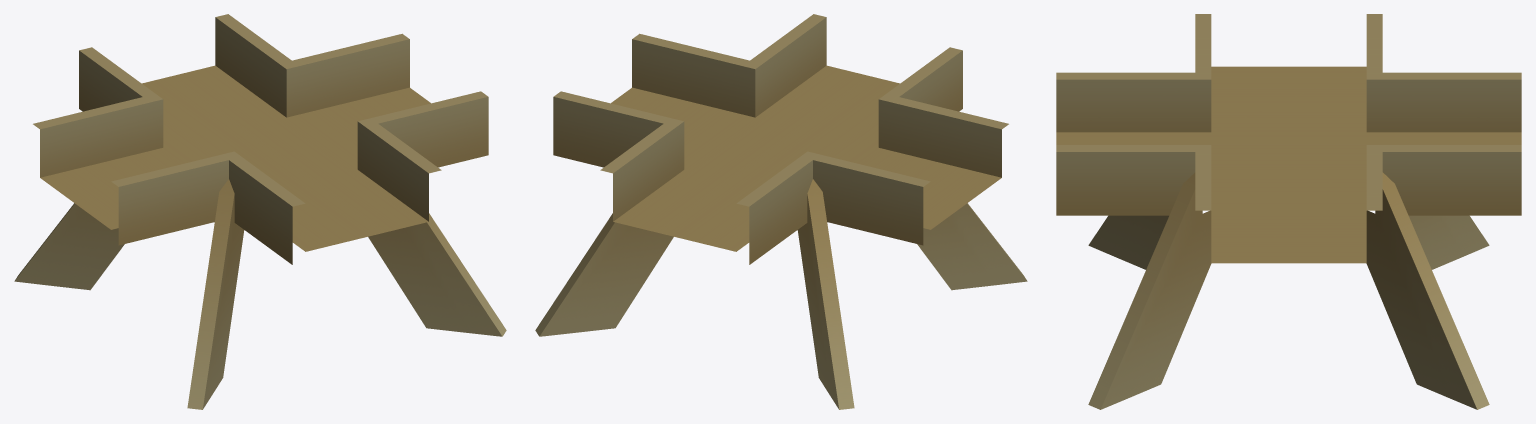
Rendered from aquaduct5.glb.
3 renders of one model, left to right at view 1: azimuth 30°, elevation 25°; view 2: azimuth 150°, elevation 25°; view 3: azimuth 270°, elevation 25°, orthographic. The views are drawn at different scales.
Visible parts, largest first — view 1: Aquaduct5; view 2: Aquaduct5; view 3: Aquaduct5.
Boxes of the visible parts, x1,y1,x2,y2 form: Aquaduct5: (14, 14, 506, 409); Aquaduct5: (535, 14, 1027, 409); Aquaduct5: (1056, 14, 1521, 409).
Size of the model in its own units: 2 by 1.01 by 2.
Materials: 1 (1 with a texture image).
